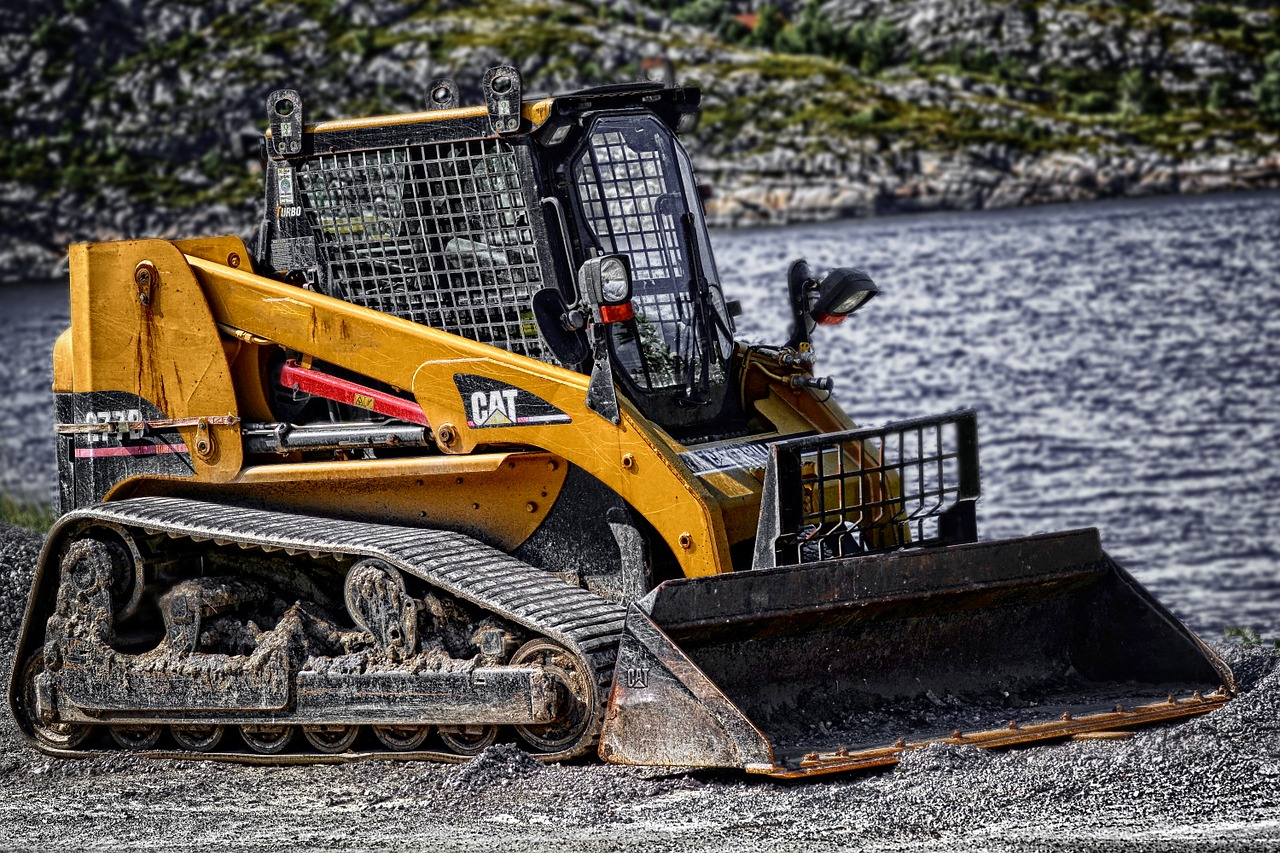bulldozer: (15, 76, 1244, 785)
